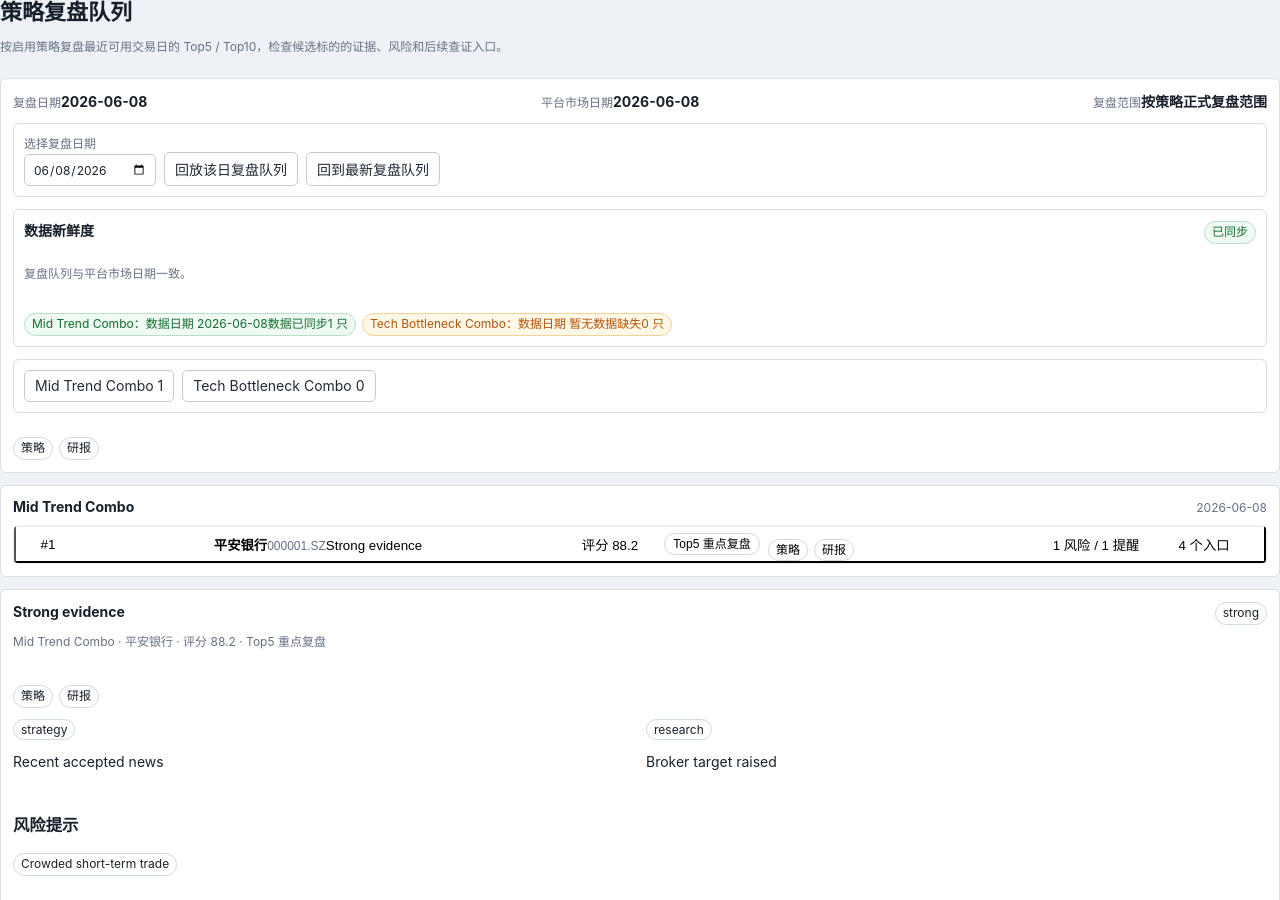
it: ReviewQueueWorkspace › switches groups and shows an empty group state
Expected: the text "Recent accepted news" is shown, [13, 753, 164, 770]
Click the button "Tech Bottleneck Combo 0".
click(279, 386)  # box [182, 370, 376, 402]
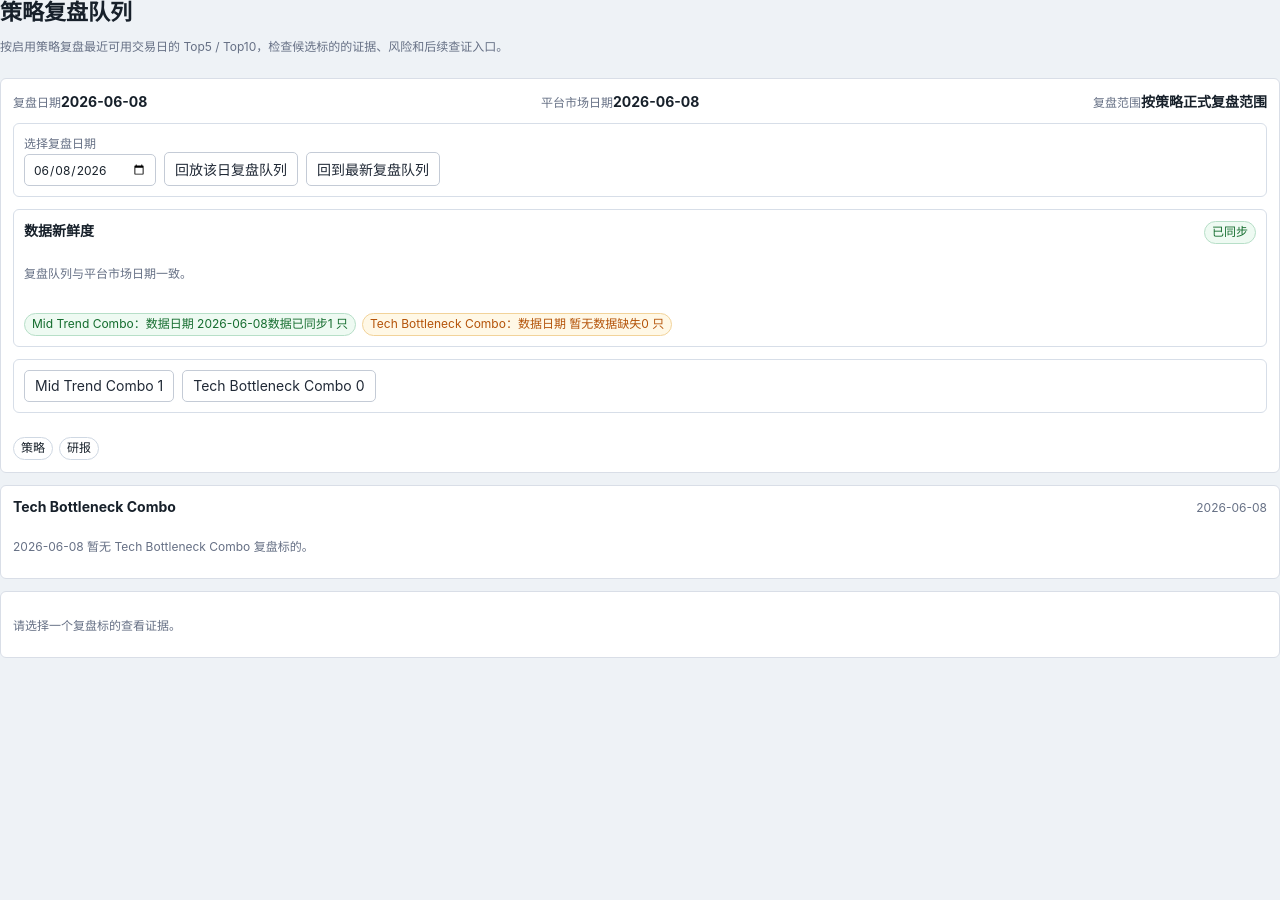
Result: the text "2026-06-08 暂无 Tech Bottleneck Combo 复盘标的。" is shown at [13, 539, 314, 554]
Result: the text "Recent accepted news" is gone
